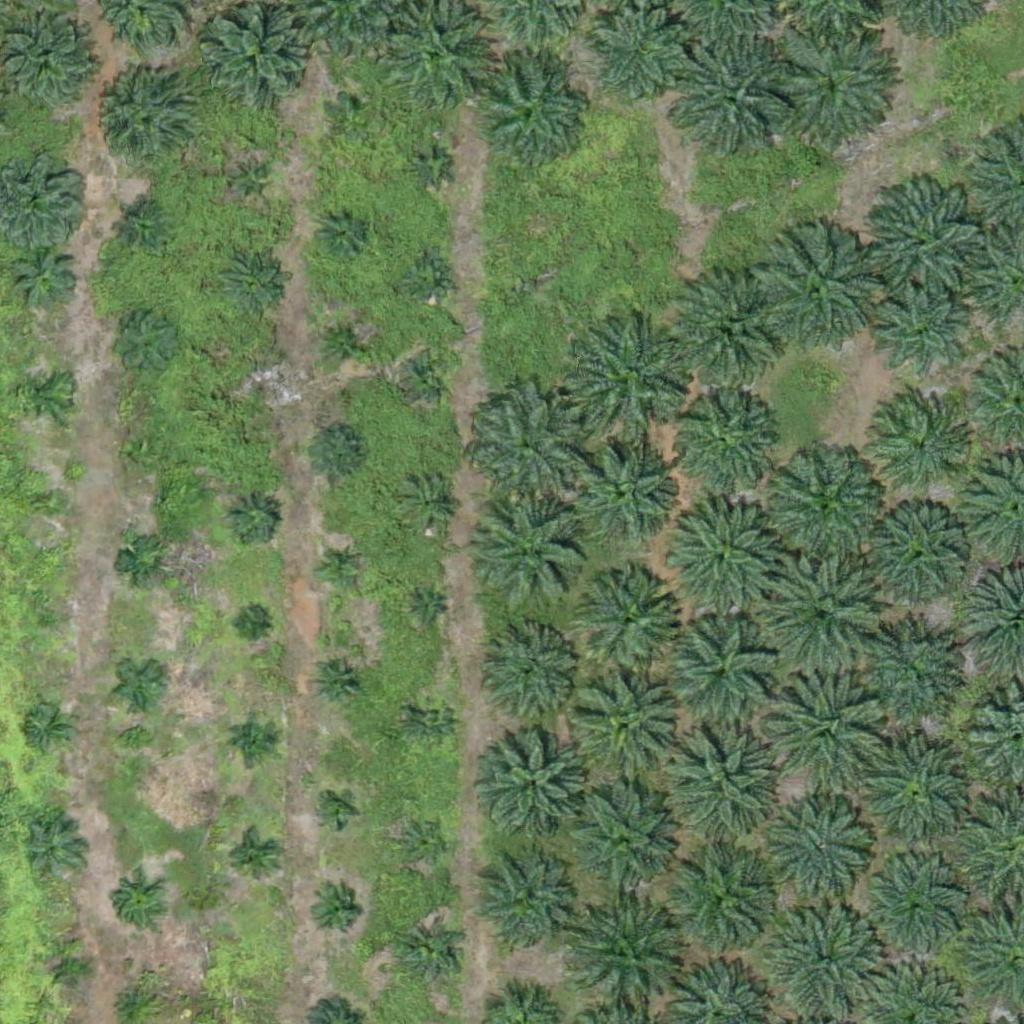Kelapa_Sawit: (669, 36, 794, 162), (772, 25, 897, 151), (859, 179, 984, 305), (753, 232, 878, 358), (570, 317, 695, 443), (760, 550, 885, 676), (762, 440, 887, 566), (657, 718, 782, 844), (764, 666, 889, 792), (672, 271, 785, 385), (772, 903, 885, 1017), (202, 4, 315, 117), (474, 56, 587, 169), (662, 498, 775, 611), (661, 615, 774, 728), (664, 847, 776, 961), (572, 903, 684, 1017), (568, 787, 680, 901), (571, 670, 683, 784), (381, 4, 493, 117), (471, 390, 583, 503), (480, 496, 592, 609), (860, 736, 972, 849), (87, 72, 187, 173), (870, 281, 970, 382), (573, 440, 673, 541), (579, 568, 679, 669), (863, 864, 963, 965), (775, 804, 875, 905), (868, 396, 968, 496), (866, 505, 966, 605), (851, 628, 951, 728), (672, 389, 772, 489), (484, 734, 584, 834), (472, 860, 572, 960), (489, 630, 576, 718), (106, 305, 181, 380), (23, 818, 86, 881), (304, 422, 367, 485), (403, 925, 465, 988), (222, 253, 284, 316), (13, 244, 75, 307), (226, 831, 276, 882), (310, 885, 360, 936), (403, 479, 453, 530), (19, 367, 69, 418), (226, 492, 276, 543), (319, 314, 369, 365), (44, 944, 94, 995), (408, 697, 458, 747), (228, 714, 278, 764), (116, 659, 166, 709), (23, 702, 73, 752), (111, 877, 161, 927), (317, 205, 367, 255), (118, 539, 168, 589), (403, 352, 453, 402), (406, 142, 456, 192), (402, 253, 452, 303), (222, 157, 272, 207), (325, 88, 375, 138), (314, 542, 364, 592), (397, 816, 447, 866), (313, 656, 363, 706), (126, 435, 164, 473), (317, 791, 355, 829), (124, 211, 162, 248), (249, 368, 274, 393), (415, 597, 440, 622), (238, 611, 263, 636), (37, 604, 62, 629), (37, 488, 62, 513)
